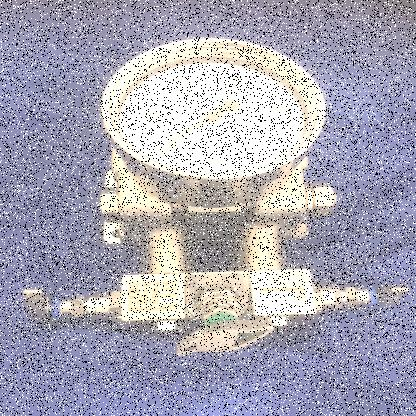needle: (152, 118, 209, 153)
